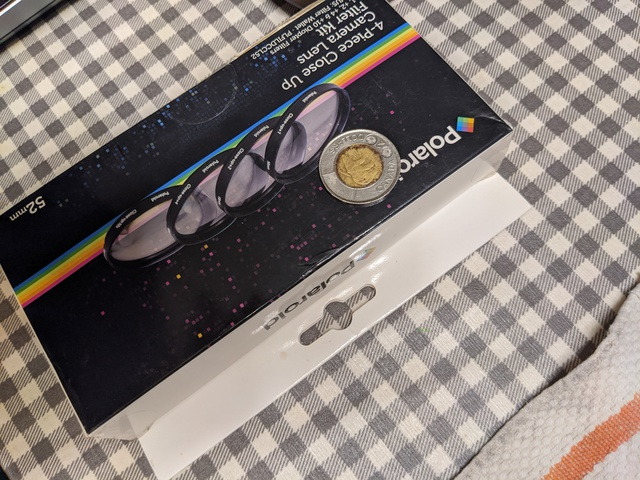twonie: (316, 123, 410, 205)
